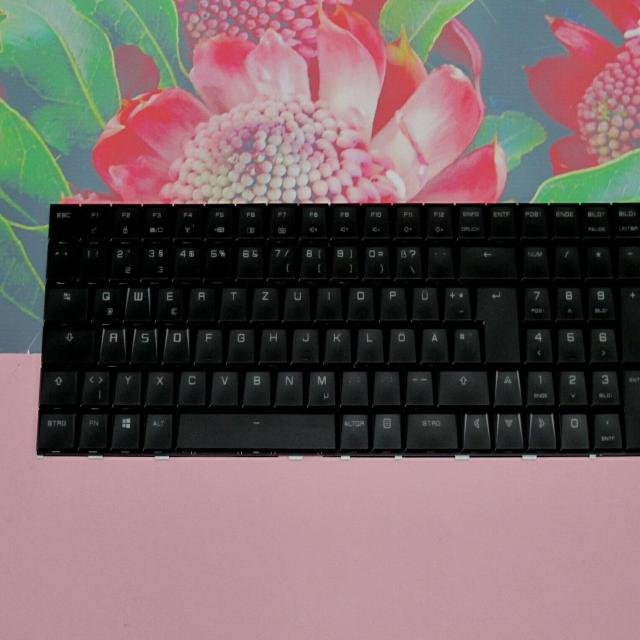0: (361, 242, 390, 277)
1: (77, 243, 105, 278)
2: (109, 243, 137, 279)
3: (140, 242, 168, 278)
4: (172, 242, 200, 278)
5: (203, 243, 231, 278)
6: (235, 242, 264, 278)
7: (266, 243, 294, 277)
8: (297, 242, 326, 278)
9: (330, 242, 358, 277)
a: (98, 323, 126, 361)
accent: (425, 242, 452, 277)
ae: (418, 323, 448, 361)
alt-left: (142, 409, 172, 448)
altgr-right: (338, 409, 368, 448)
b: (241, 365, 271, 404)
c: (176, 366, 206, 403)
caret: (46, 243, 74, 277)
comma: (339, 366, 368, 403)
d: (161, 324, 189, 361)
del: (457, 242, 516, 277)
e: (154, 282, 183, 319)
enter: (473, 283, 519, 361)
f: (193, 324, 222, 361)
g: (225, 324, 254, 361)
h: (257, 324, 287, 361)
hash: (450, 324, 479, 361)
i: (313, 282, 342, 318)
j: (289, 323, 318, 361)
k: (321, 323, 351, 361)
keyboard: (33, 194, 640, 461)
l: (354, 324, 383, 361)
less: (79, 366, 109, 403)
m: (305, 365, 335, 404)
minus: (403, 366, 432, 403)
n: (273, 366, 303, 404)
o: (345, 281, 374, 319)
oe: (386, 323, 415, 361)
p: (377, 282, 406, 319)
plus: (441, 282, 470, 319)
point: (371, 366, 400, 403)
q: (89, 282, 119, 319)
r: (185, 282, 215, 319)
s: (128, 324, 157, 361)
shift-left: (37, 366, 77, 404)
shift-lock: (41, 325, 94, 362)
shift-right: (435, 366, 488, 403)
space: (175, 409, 335, 448)
ss: (393, 242, 421, 278)
strg-left: (35, 409, 75, 448)
strg-right: (404, 409, 458, 448)
t: (218, 283, 246, 319)
tab: (43, 283, 88, 319)
u: (281, 282, 310, 319)
ue: (409, 282, 438, 319)
v: (208, 366, 238, 403)
w: (122, 283, 150, 320)
x: (144, 366, 173, 404)
y: (112, 367, 141, 404)
z: (249, 282, 278, 319)
